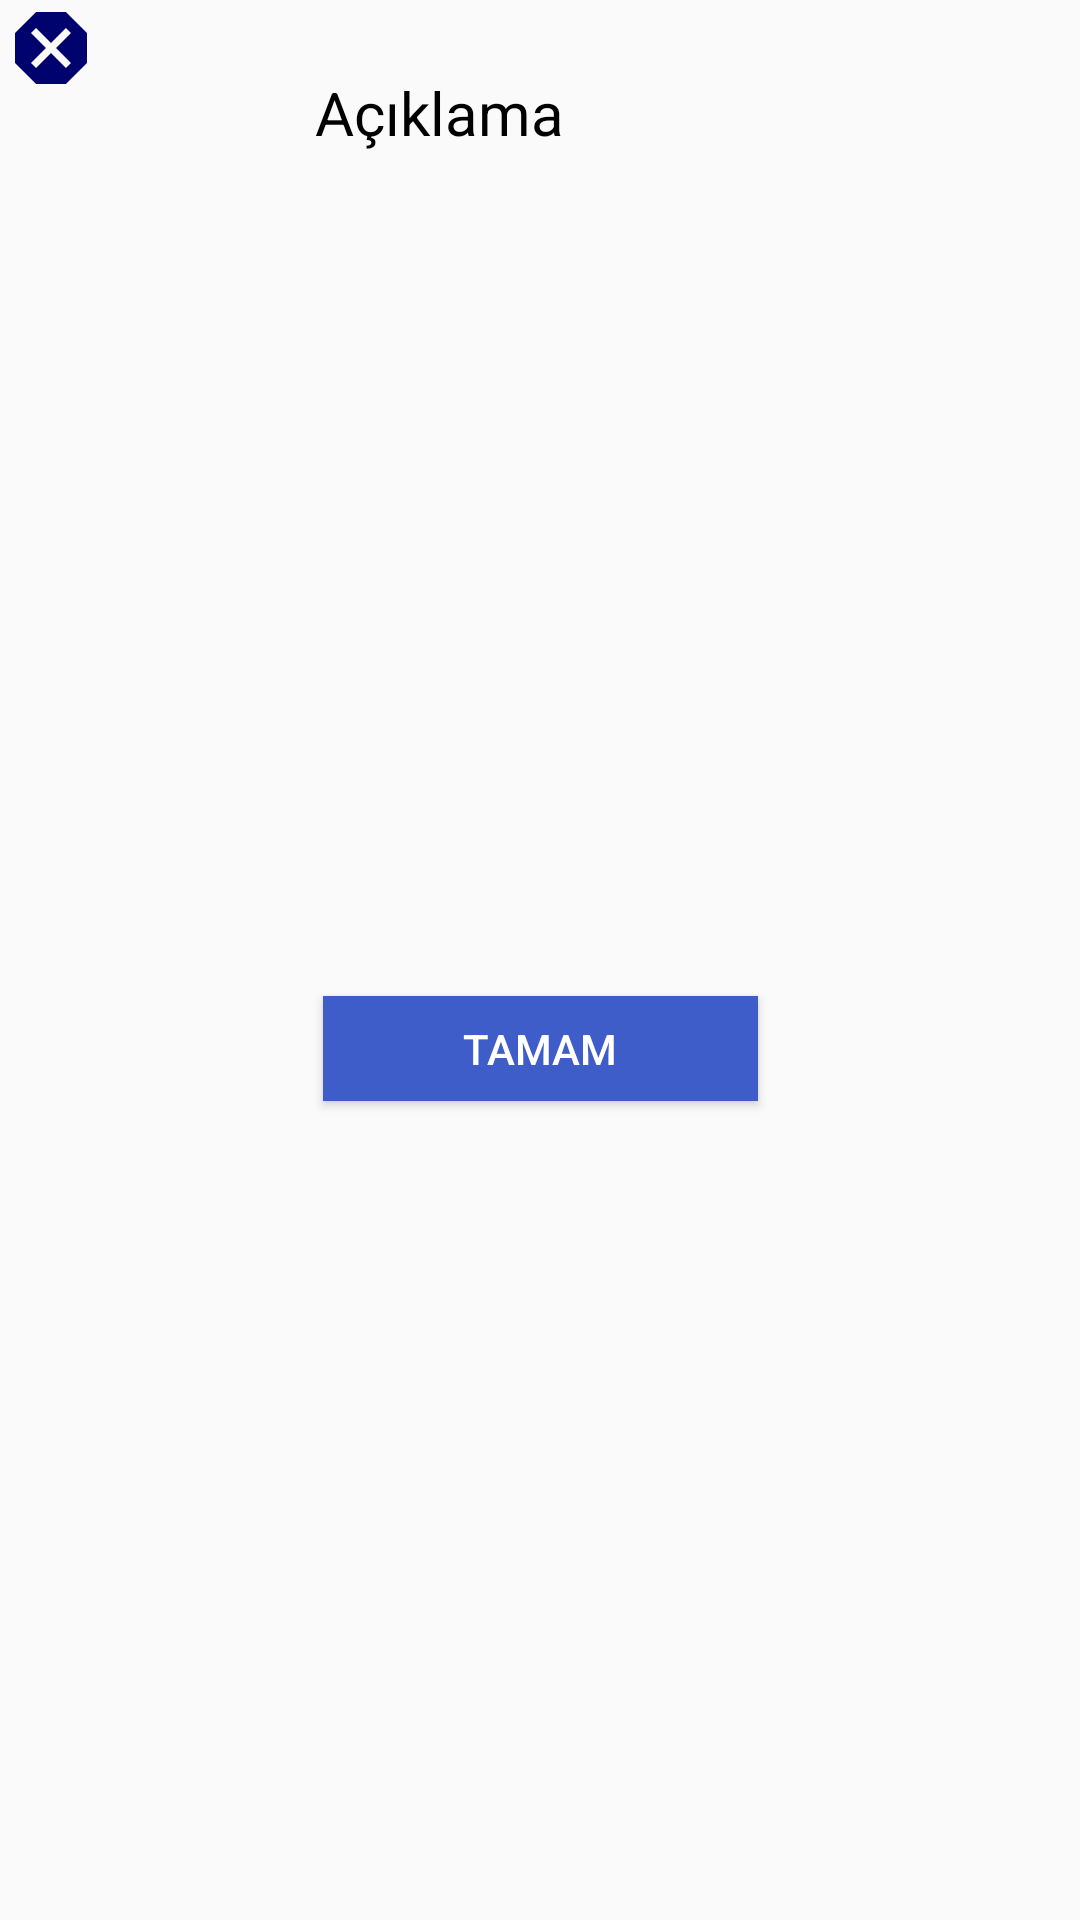

Named icons in this screenshot (1080 × 1920) and their centers, [x,y]:
dangerous: [51,48]
